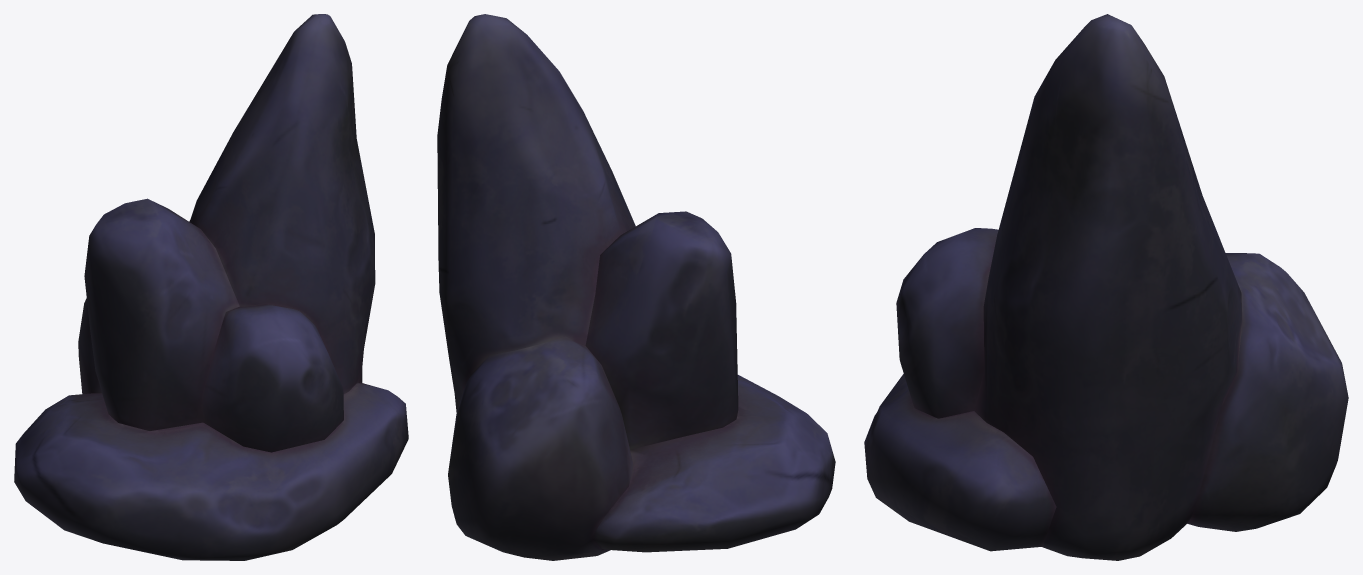
File: SM_Gem_Obsidian_002.fbx
The picture shows the model from 3 angles, left to right: view 1: azimuth 30°, elevation 25°; view 2: azimuth 150°, elevation 25°; view 3: azimuth 270°, elevation 25°; orthographic projection. The views are drawn at different scales.
Parts seen in each view (by area): view 1: SM_Gem_Obsidian_002; view 2: SM_Gem_Obsidian_002; view 3: SM_Gem_Obsidian_002.
Boxes of the visible parts, x1,y1,x2,y2 form: SM_Gem_Obsidian_002: (14, 14, 408, 560); SM_Gem_Obsidian_002: (437, 14, 835, 560); SM_Gem_Obsidian_002: (864, 14, 1348, 560).
Bounding box in the file's own units: 62.12 × 79.65 × 60.62.
